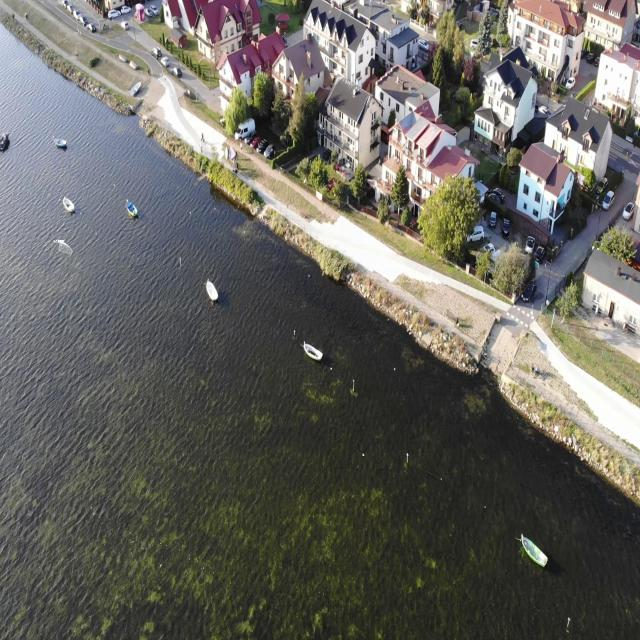boat: (521, 529, 548, 569), (303, 342, 323, 364), (205, 280, 218, 305), (125, 199, 138, 222), (61, 196, 74, 217), (54, 136, 69, 154), (0, 134, 12, 152)
surfboard: (55, 238, 67, 246)
